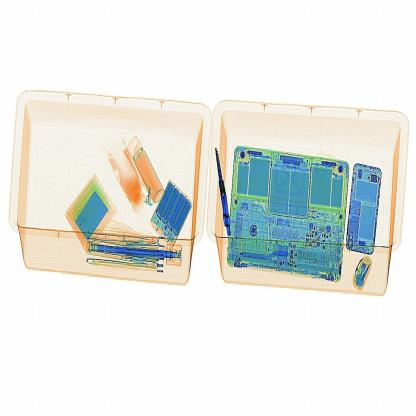gun: (209, 136, 245, 245)
